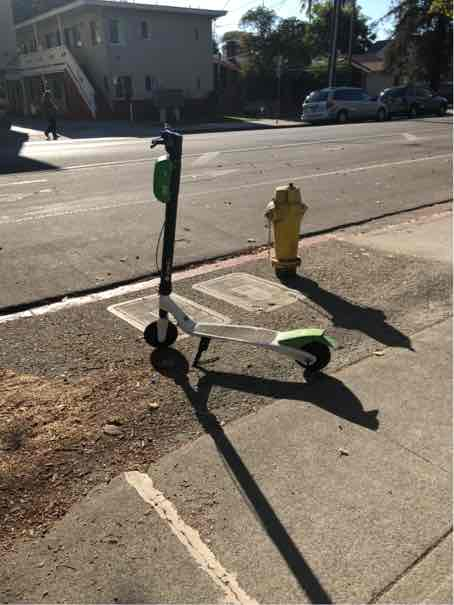scooter: (132, 108, 348, 389)
